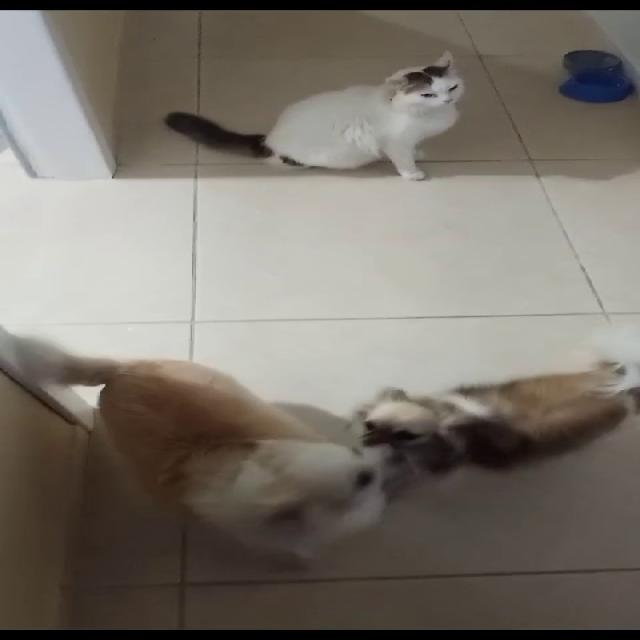Pedrita: (364, 364, 638, 481)
Simba: (197, 27, 576, 192)
Theo: (62, 306, 393, 553)
